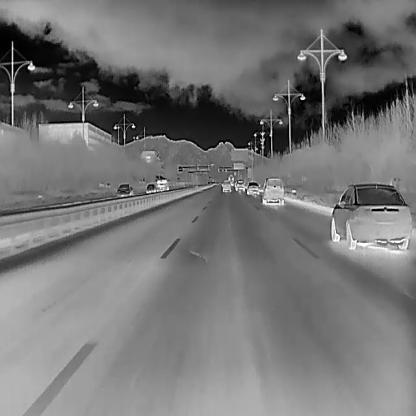car: (330, 182, 412, 250), (261, 176, 284, 205), (116, 182, 132, 197), (245, 180, 260, 194), (155, 178, 169, 192), (220, 178, 231, 192), (144, 182, 156, 193), (234, 179, 244, 191)
truck: (227, 172, 235, 186)
